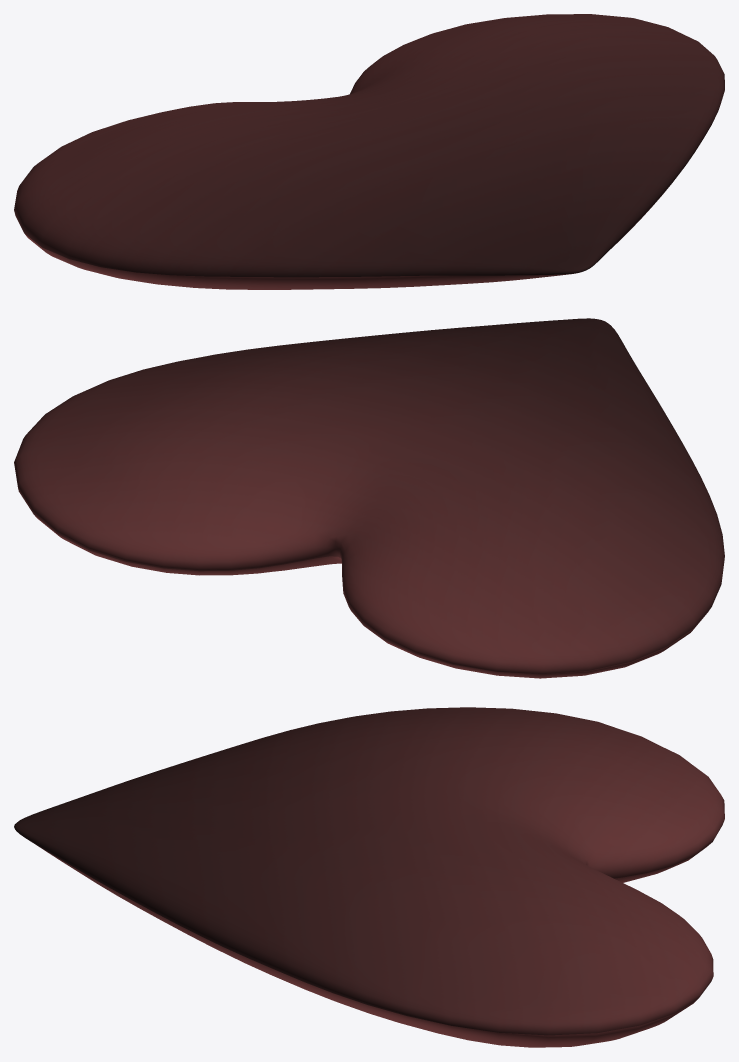
The model's file is heart.glb.
3 views of the same model, one above another, from view 1: azimuth 30°, elevation 25°; view 2: azimuth 150°, elevation 25°; view 3: azimuth 270°, elevation 25° (orthographic). The views are drawn at different scales.
Visible parts, largest first — view 1: cc_t_heart6; view 2: cc_t_heart6; view 3: cc_t_heart6.
Boxes of the visible parts, bbox=[...] form: cc_t_heart6: bbox=[14, 14, 724, 289]; cc_t_heart6: bbox=[14, 318, 724, 678]; cc_t_heart6: bbox=[14, 707, 724, 1047].
Bounding box in the file's own units: 0.0979 × 0.0207 × 0.0834.
1 material, 1 textured.
